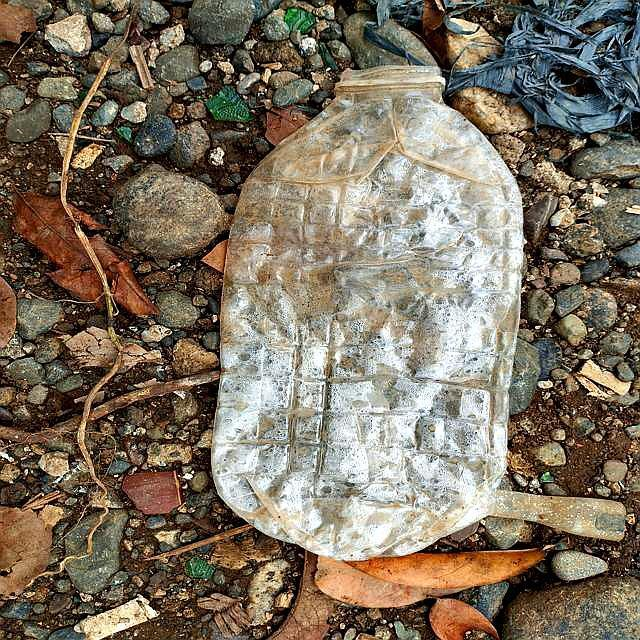Non-biodegradable: (207, 59, 523, 563)
